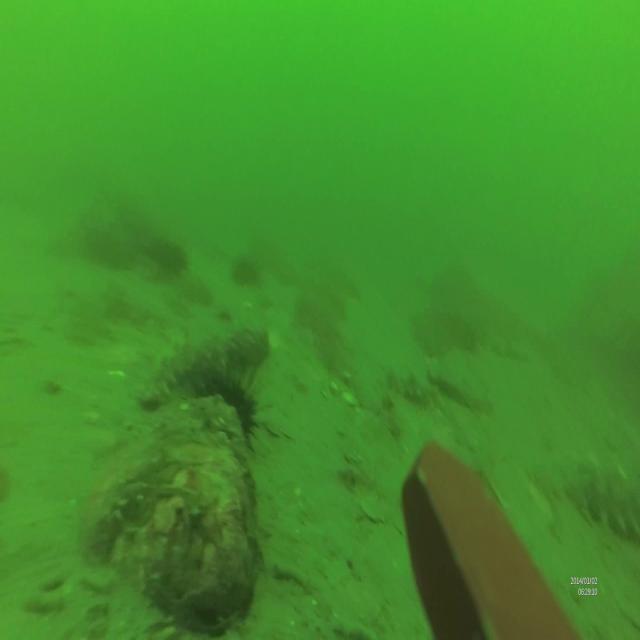echinus: (192, 361, 258, 449)
holothurian: (142, 318, 270, 414), (574, 460, 640, 552), (384, 361, 439, 414)
